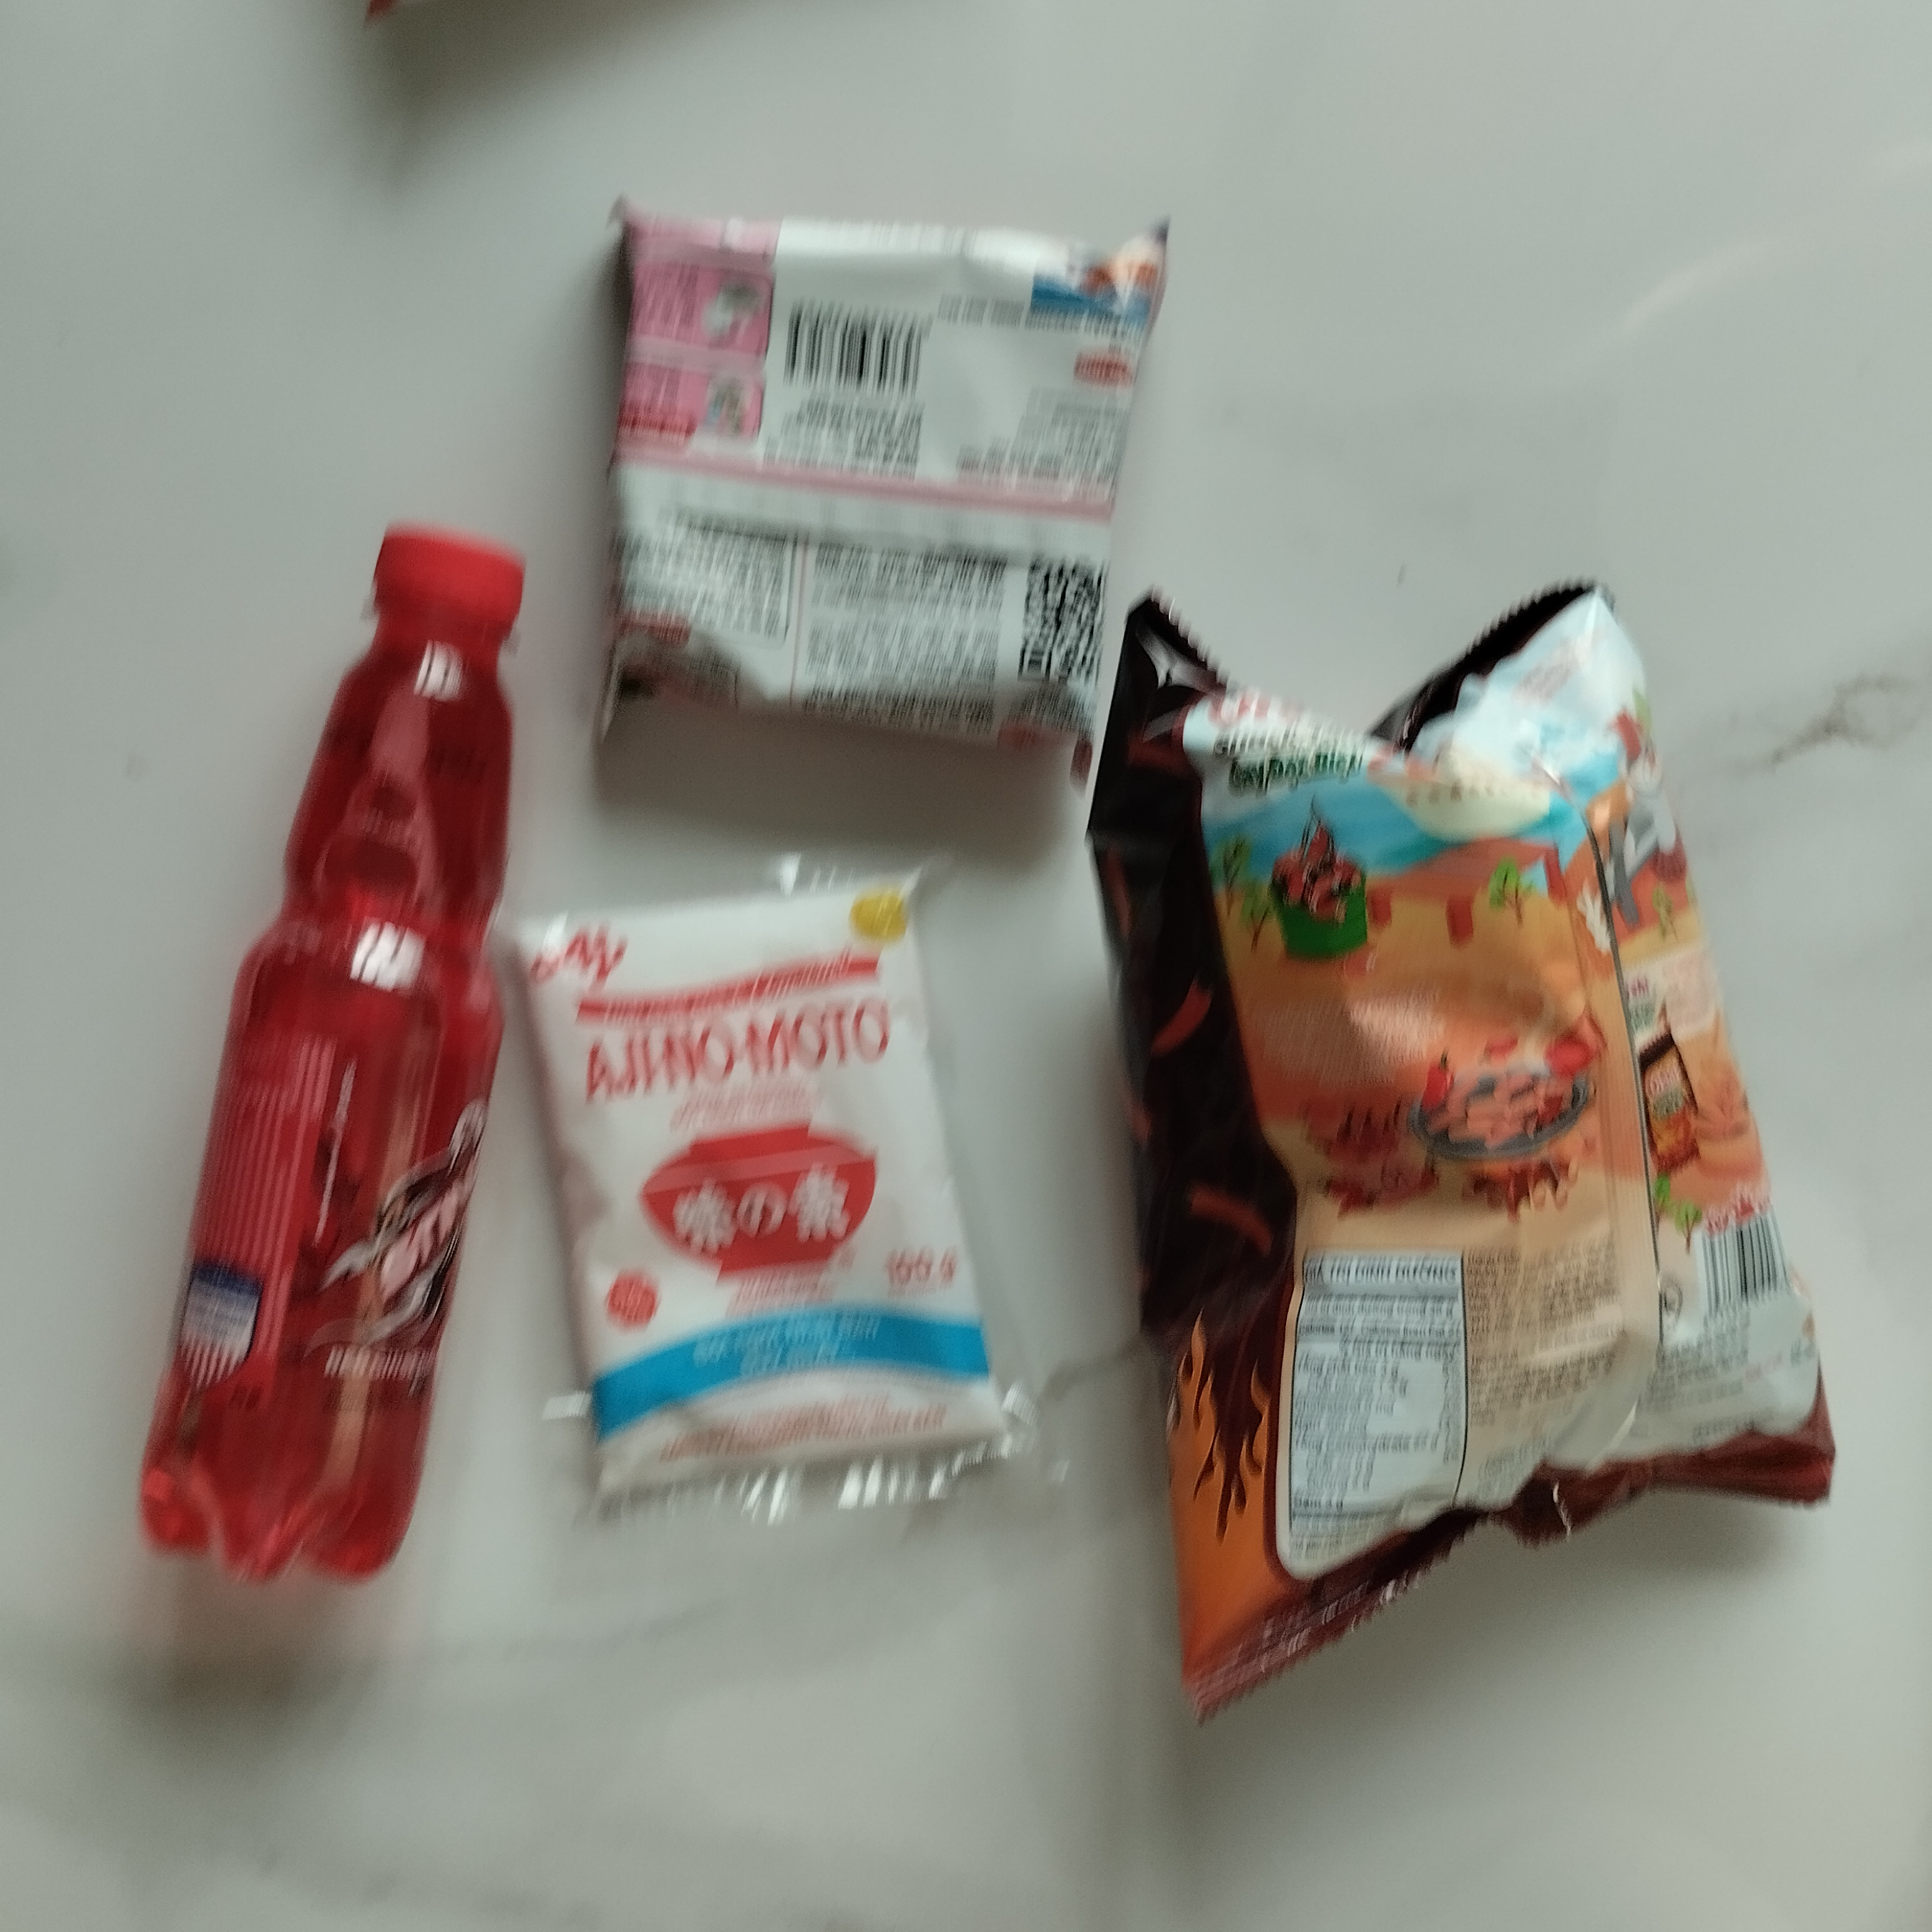Ajinomoto: (508, 867, 1019, 1523)
Haohao: (579, 189, 1173, 793)
Oishi_Cay: (1079, 564, 1844, 1727)
Sting: (115, 520, 529, 1619)
